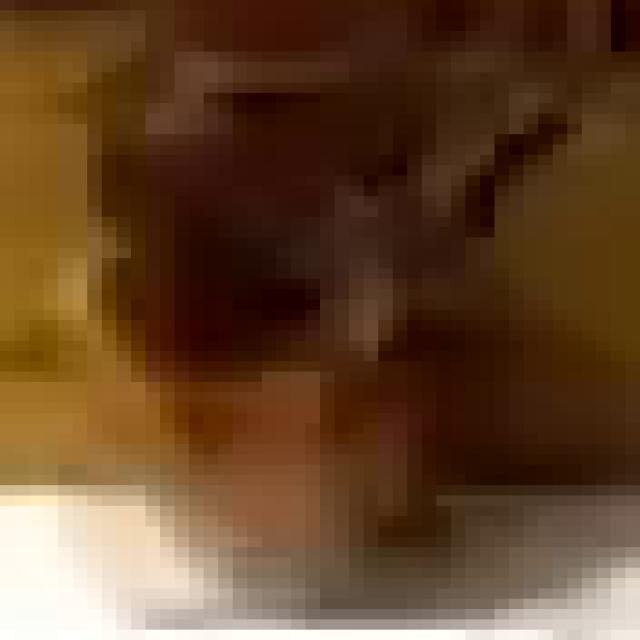honeybee: (69, 45, 555, 537)
